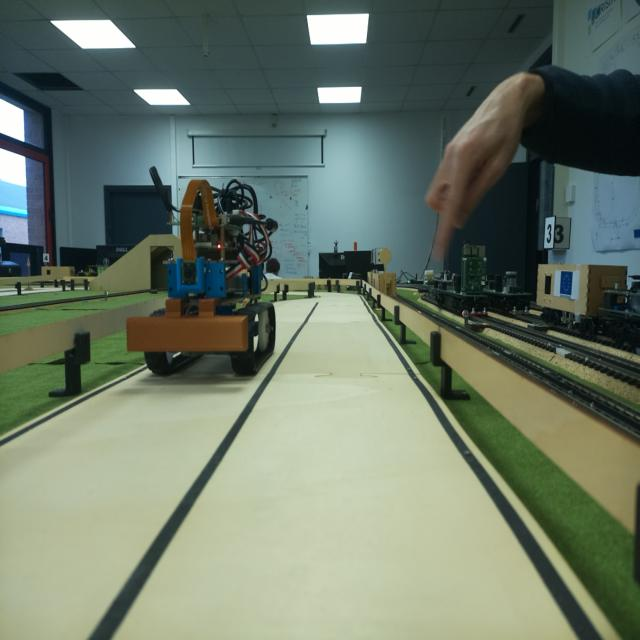obstacle_voiture: (141, 166, 276, 387)
